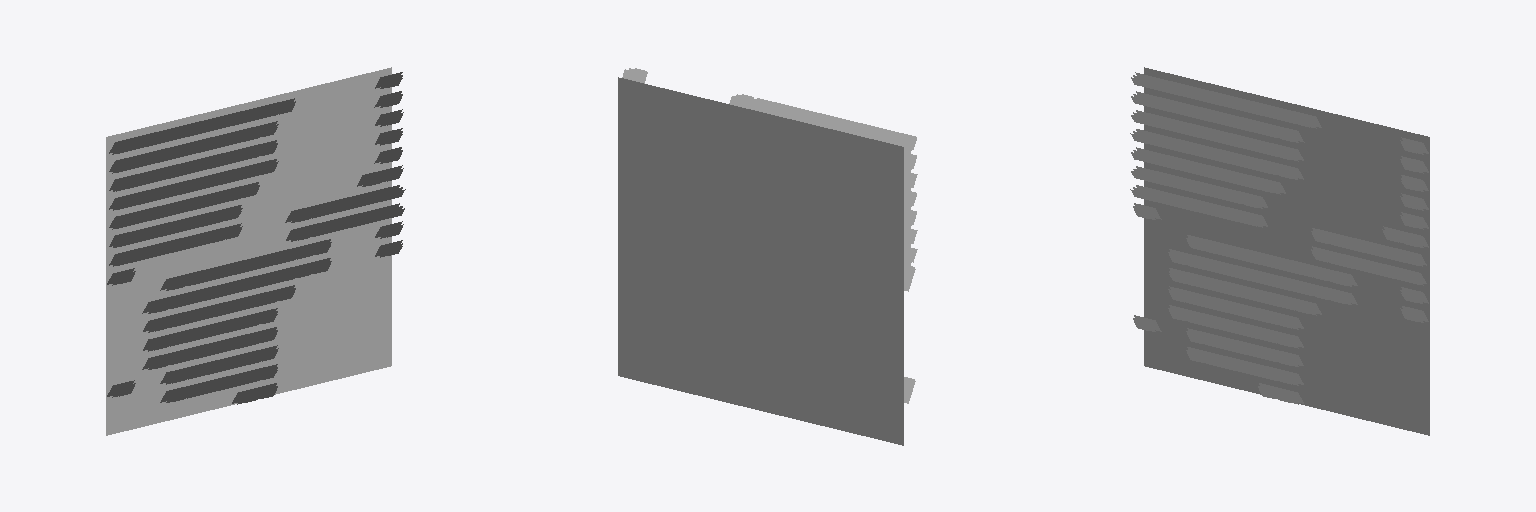
The model's file is Plat_full_08_02.obj.
The picture shows the model from 3 angles: view 1: azimuth 30°, elevation 25°; view 2: azimuth 150°, elevation 25°; view 3: azimuth 330°, elevation 25°; orthographic projection.
Parts seen in each view (by area): view 1: map; view 2: map; view 3: map.
Part boxes in pixels (bbox=[...]): map: bbox=[106, 67, 405, 435]; map: bbox=[618, 68, 917, 445]; map: bbox=[1130, 67, 1429, 435].
Size of the model in its own units: 32.5 by 32.12 by 2.64.